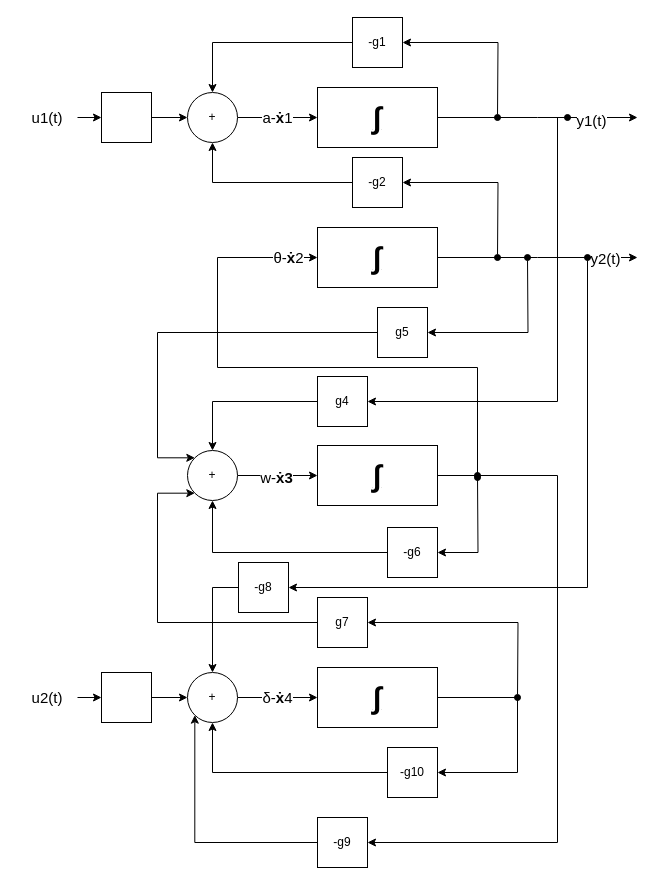
The diagram is 663 pixels wide and 885 high, and some of its shapes have lost their labels. The shapes that lost their labels are listed below. From the top down, each one's centre as x and y in pixels, then its label:
At (x=126, y=117): "g3".
At (x=126, y=697): "g8".
